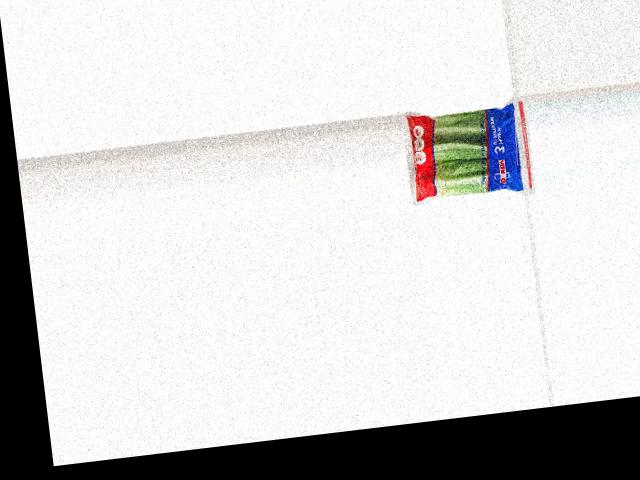lettuce: (401, 101, 526, 204)
